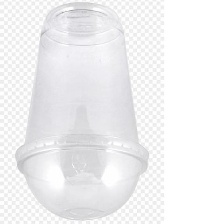glass: (11, 0, 153, 222)
